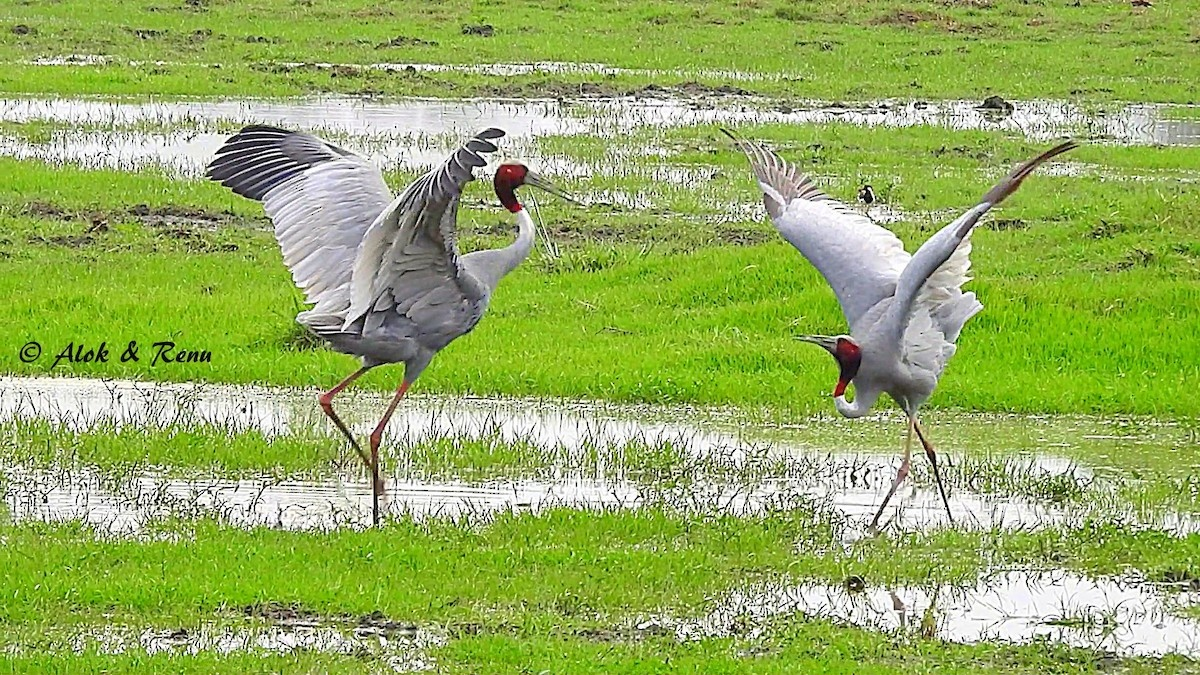crane: (726, 121, 1086, 525), (201, 140, 594, 507)
